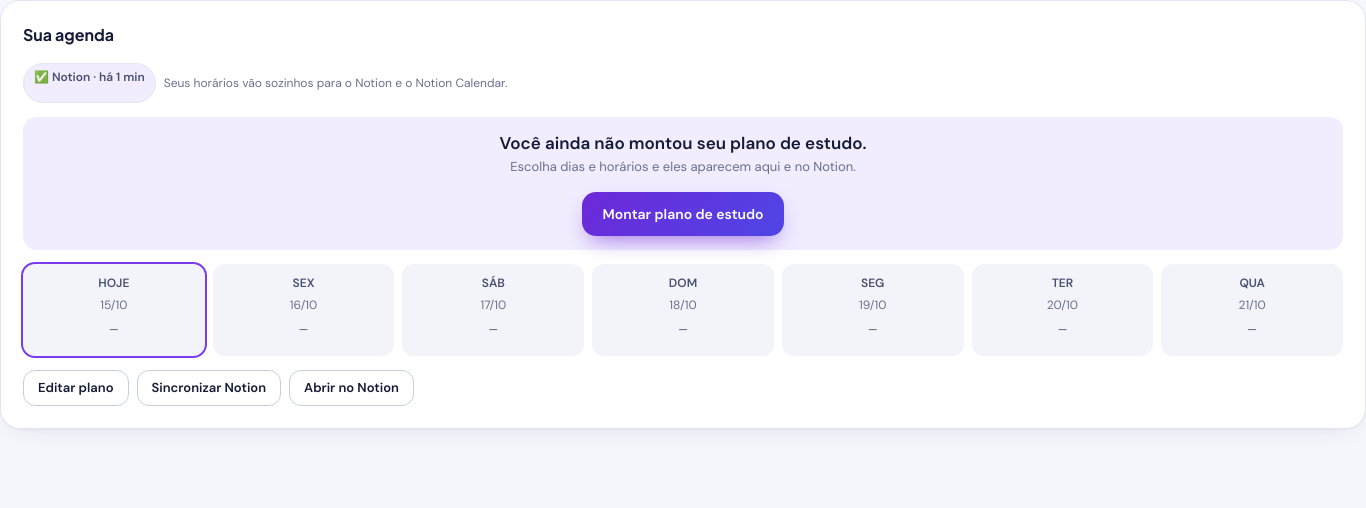
Test: AgendaCard · antes de conectar › erro ao sincronizar o Notion aparece e o botão volta
The width and height of the screenshot is (1366, 508).
What coordinates should you click on to do the following:
click the button "Sincronizar Notion"
I would click on:
 (209, 388)
Its box is [136,370,281,406].
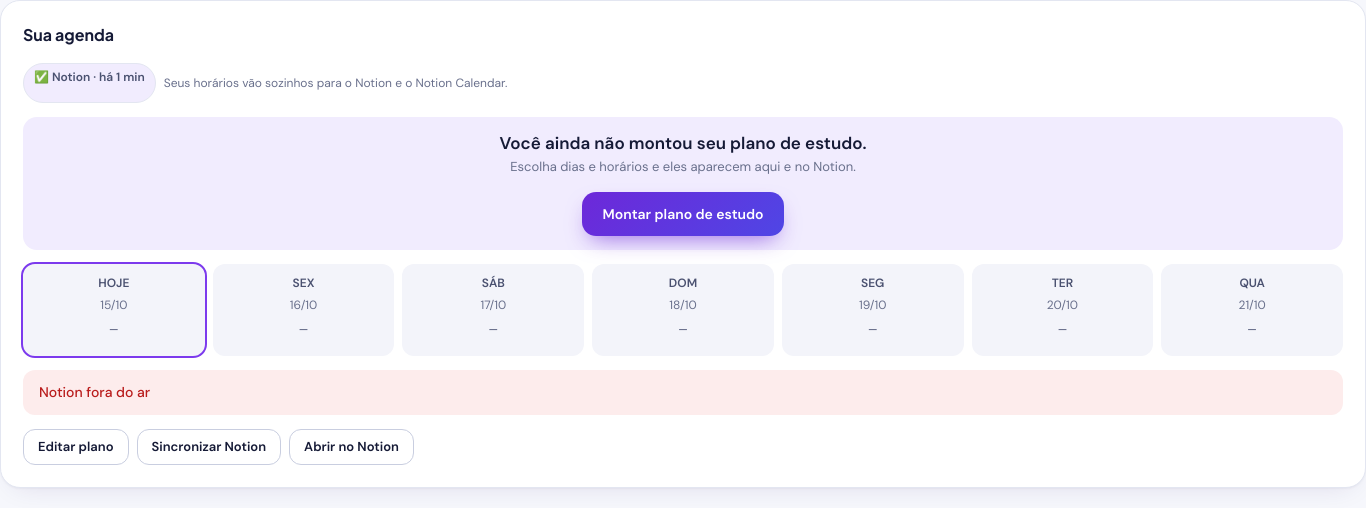
Expected: the button "Sincronizar Notion" is enabled, [136,429,281,465]
Expected: the message "Notion fora do ar" is shown, [23,370,1343,415]
